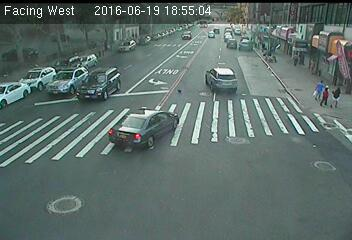neg: (47, 74, 81, 120), (48, 185, 77, 223), (224, 129, 249, 162), (316, 156, 336, 183), (202, 84, 220, 109), (120, 27, 137, 50), (171, 78, 186, 98), (145, 30, 159, 49)
pos: (328, 85, 348, 111), (310, 79, 326, 101), (320, 84, 336, 105), (290, 49, 304, 68)
